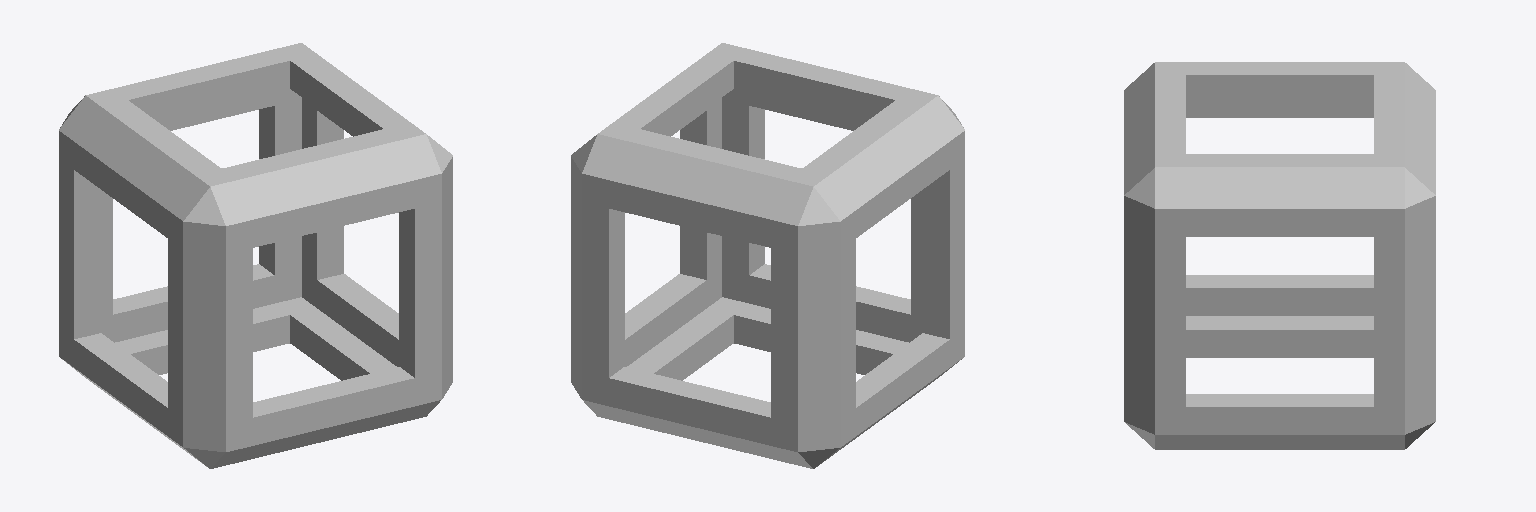
The model's file is item.obj.
3 renders of one model, left to right at view 1: azimuth 30°, elevation 25°; view 2: azimuth 150°, elevation 25°; view 3: azimuth 270°, elevation 25°, orthographic.
Parts seen in each view (by area): view 1: top, TS, tw; view 2: top, TS, tw; view 3: top, TS, tw.
Part boxes in pixels (left/top/right/bottom): top: left=59, top=49, right=441, bottom=445; TS: left=74, top=107, right=452, bottom=462; tw: left=59, top=43, right=452, bottom=468; top: left=582, top=49, right=964, bottom=445; TS: left=571, top=107, right=949, bottom=462; tw: left=571, top=43, right=964, bottom=468; top: left=1155, top=62, right=1404, bottom=434; TS: left=1124, top=76, right=1435, bottom=449; tw: left=1124, top=62, right=1435, bottom=449.
Size of the model in its own units: 0.625 by 0.625 by 0.625.